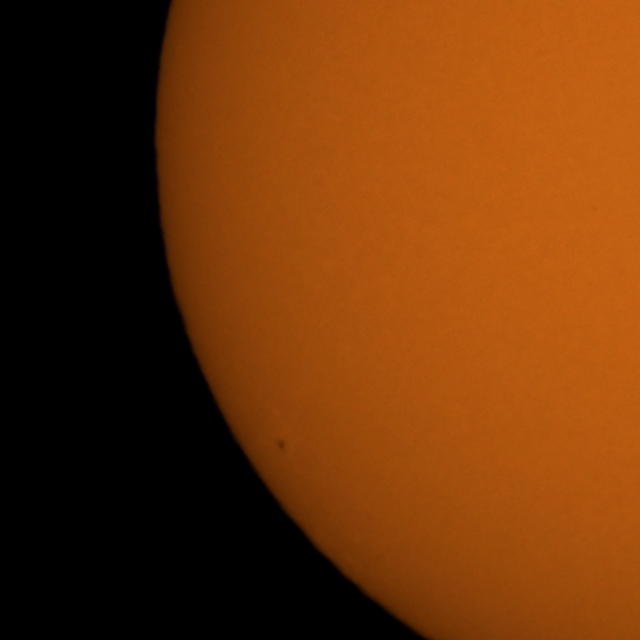sunspot: (275, 437, 287, 453)
